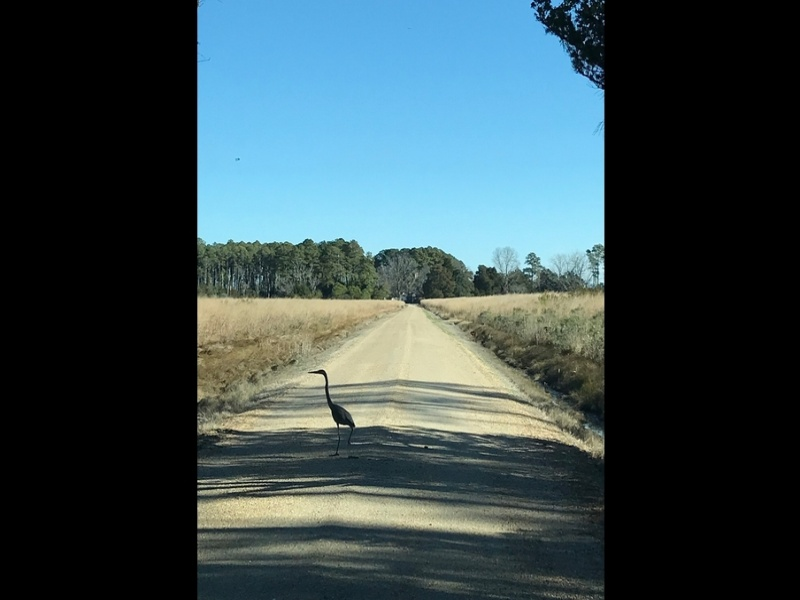heron: (307, 368, 362, 462)
